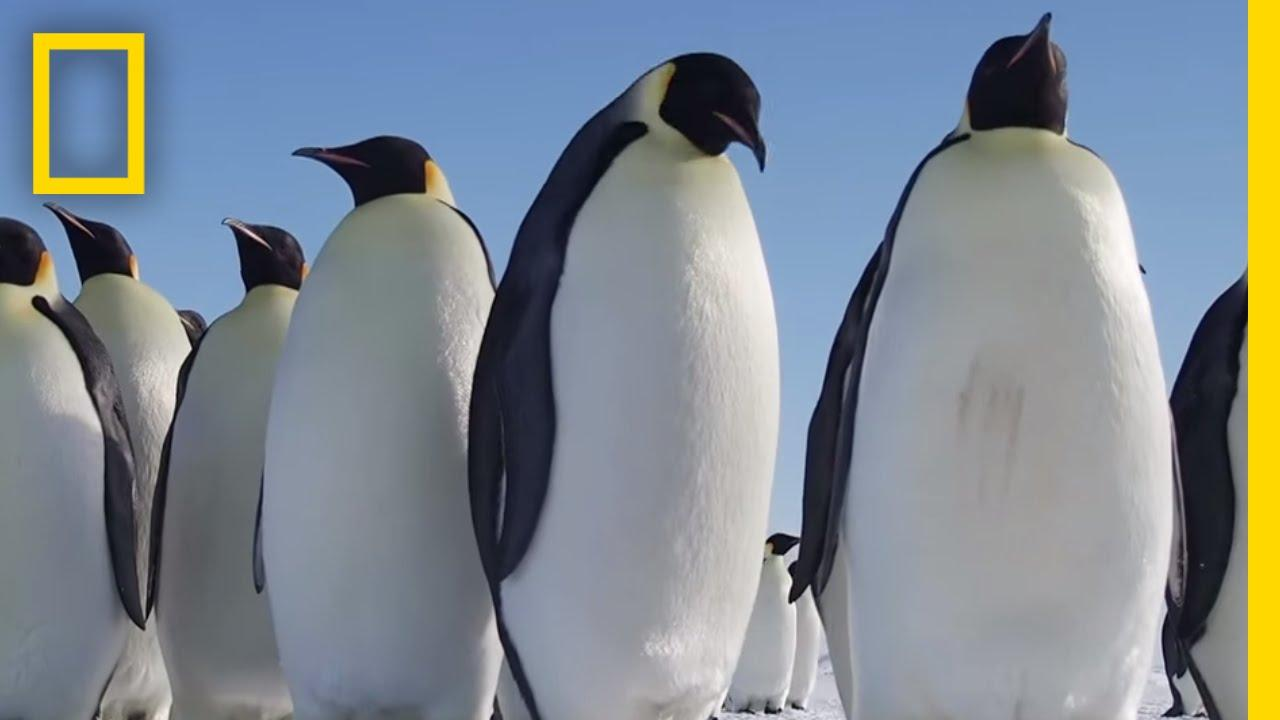emporer: (792, 7, 1205, 718), (464, 55, 804, 720), (291, 105, 506, 720), (172, 190, 328, 720)
